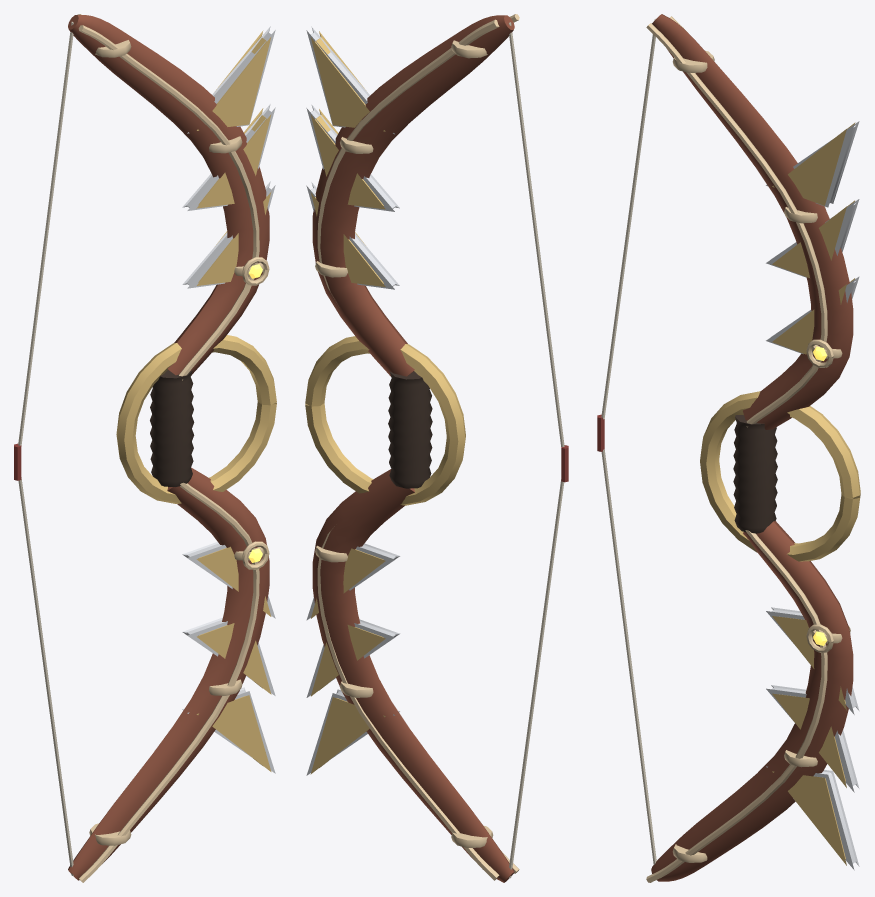
File: depth_saltwind_recurve.glb
3 renders of one model, left to right at view 1: azimuth 30°, elevation 25°; view 2: azimuth 150°, elevation 25°; view 3: azimuth 330°, elevation 25°, orthographic.
Parts seen in each view (by area): view 1: depth_saltwind_recurve; view 2: depth_saltwind_recurve; view 3: depth_saltwind_recurve.
Boxes of the visible parts, bbox=[...] form: depth_saltwind_recurve: bbox=[14, 14, 276, 882]; depth_saltwind_recurve: bbox=[305, 14, 568, 882]; depth_saltwind_recurve: bbox=[597, 14, 860, 882].
Size of the model in its own units: 0.4249 by 1.34 by 0.0643.
